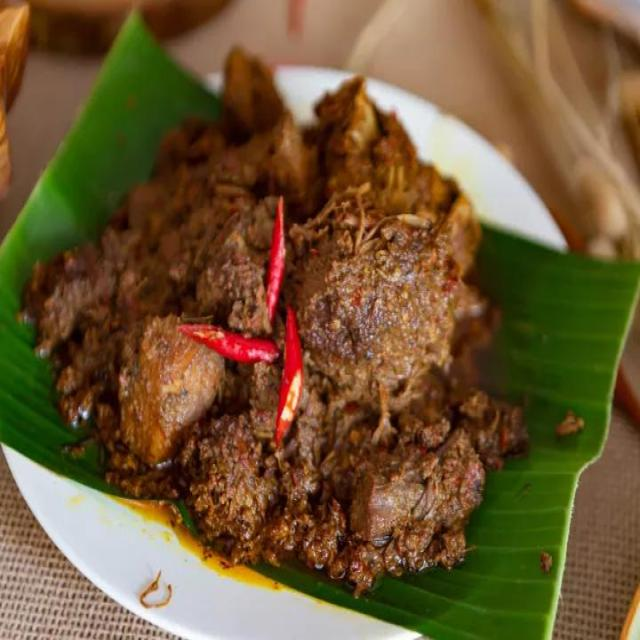Rendang: (26, 68, 520, 605)
